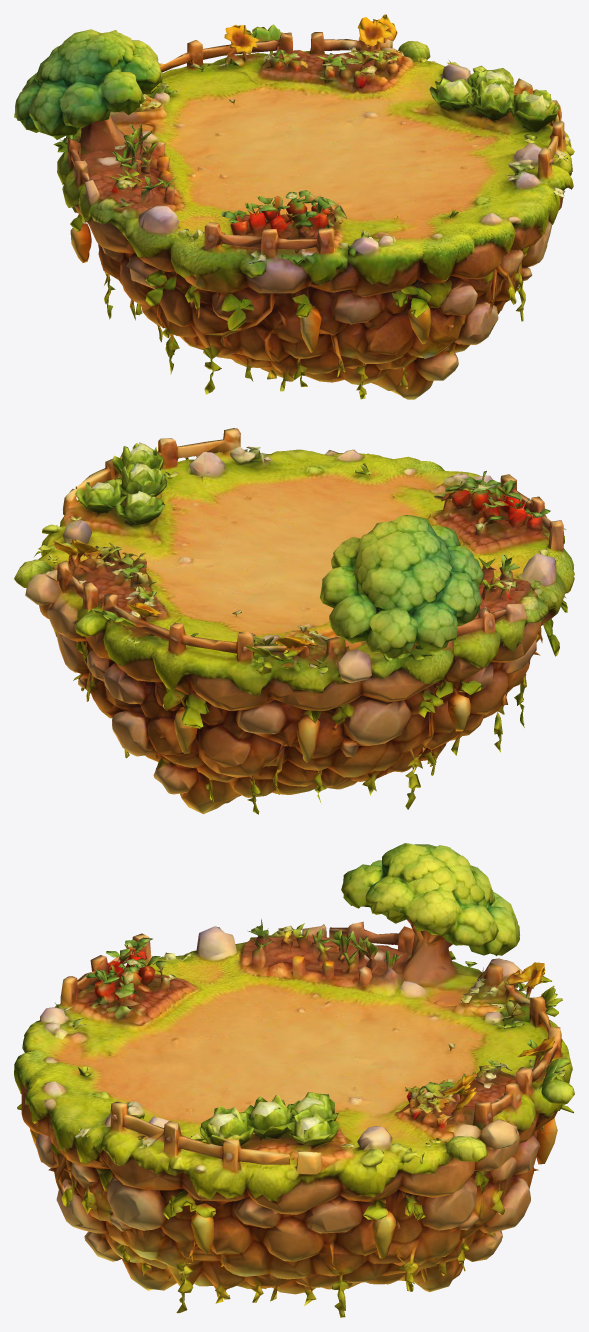
The model's file is star_farm.glb.
3 views of the same model, one above another, from view 1: azimuth 30°, elevation 25°; view 2: azimuth 150°, elevation 25°; view 3: azimuth 270°, elevation 25° (orthographic). The views are drawn at different scales.
Bounding box in the file's own units: 1 × 0.6814 × 0.9993.
1 material, 1 textured.
